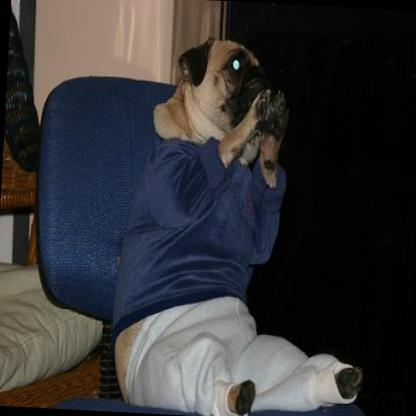pug: (106, 31, 384, 416)
